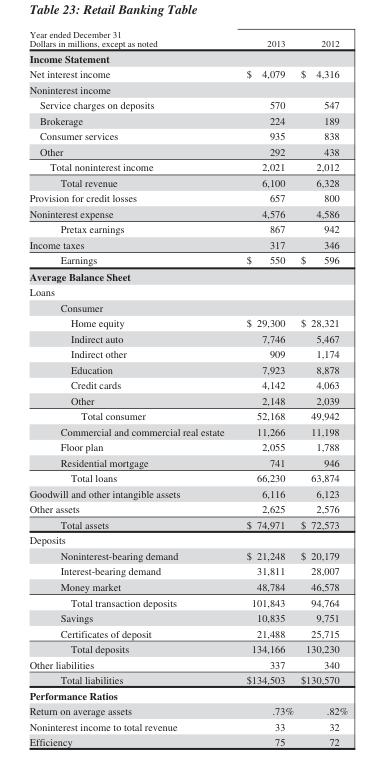table: (28, 29, 347, 747)
table column: (28, 29, 234, 747), (234, 29, 296, 747), (296, 29, 347, 747)
table column header: (28, 29, 347, 50)
table projected row header: (28, 50, 347, 66), (28, 81, 347, 97), (28, 268, 347, 284), (28, 299, 347, 315), (28, 284, 347, 299), (28, 532, 347, 547), (28, 687, 347, 702)
table row: (28, 29, 347, 50), (28, 50, 347, 66), (28, 81, 347, 97), (28, 112, 347, 128), (28, 143, 347, 159), (28, 174, 347, 190), (28, 205, 347, 221), (28, 236, 347, 252), (28, 252, 347, 268), (28, 268, 347, 284), (28, 299, 347, 315), (28, 330, 347, 346), (28, 361, 347, 377), (28, 392, 347, 408), (28, 423, 347, 439), (28, 454, 347, 470), (28, 485, 347, 501), (28, 516, 347, 532), (28, 547, 347, 563), (28, 578, 347, 594), (28, 609, 347, 625), (28, 640, 347, 656), (28, 671, 347, 687), (28, 702, 347, 718), (28, 66, 347, 81), (28, 97, 347, 112), (28, 128, 347, 143), (28, 159, 347, 174), (28, 190, 347, 205), (28, 221, 347, 236), (28, 284, 347, 299), (28, 315, 347, 330), (28, 346, 347, 361), (28, 377, 347, 392), (28, 408, 347, 423), (28, 439, 347, 454), (28, 470, 347, 485), (28, 501, 347, 516), (28, 532, 347, 547), (28, 563, 347, 578), (28, 594, 347, 609), (28, 625, 347, 640), (28, 656, 347, 671), (28, 687, 347, 702), (28, 718, 347, 733), (28, 733, 347, 747)
